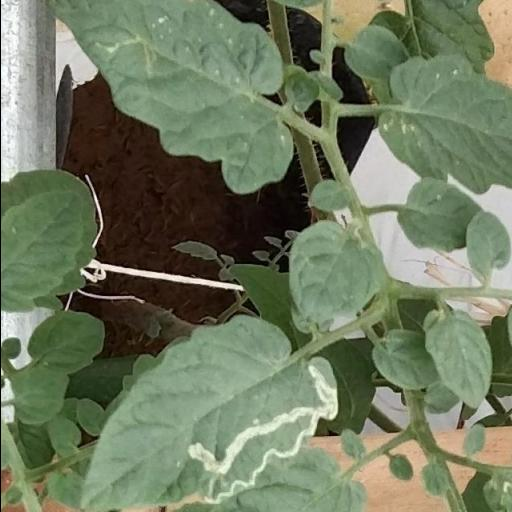disease_tomato: (69, 314, 339, 510)
